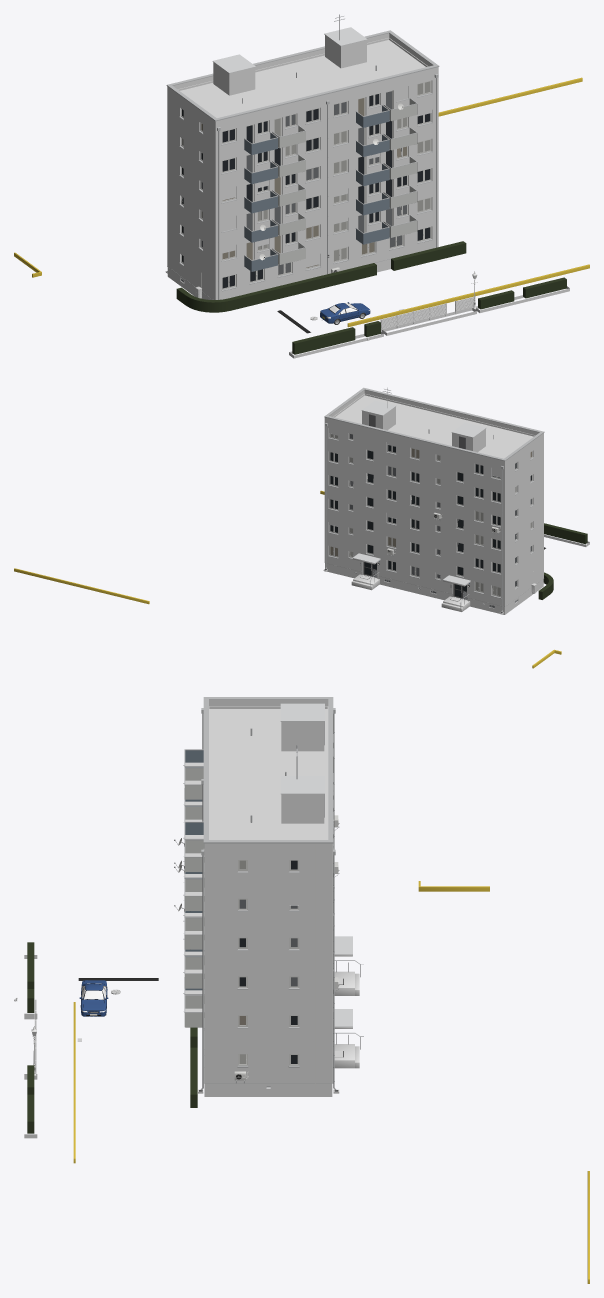
Rendered from cell_m1_m1.glb.
3 renders of one model, top to bottom at view 1: azimuth 30°, elevation 25°; view 2: azimuth 150°, elevation 25°; view 3: azimuth 270°, elevation 25°, orthographic. The views are drawn at different scales.
Visible parts, largest first — view 1: cell_m1_m1; view 2: cell_m1_m1; view 3: cell_m1_m1.
Part boxes in pixels (x1,y1,x2,y2): cell_m1_m1: (14,14,589,358); cell_m1_m1: (14,387,589,668); cell_m1_m1: (14,697,589,1283).
Size of the model in its own units: 66 by 23.98 by 40.33.
